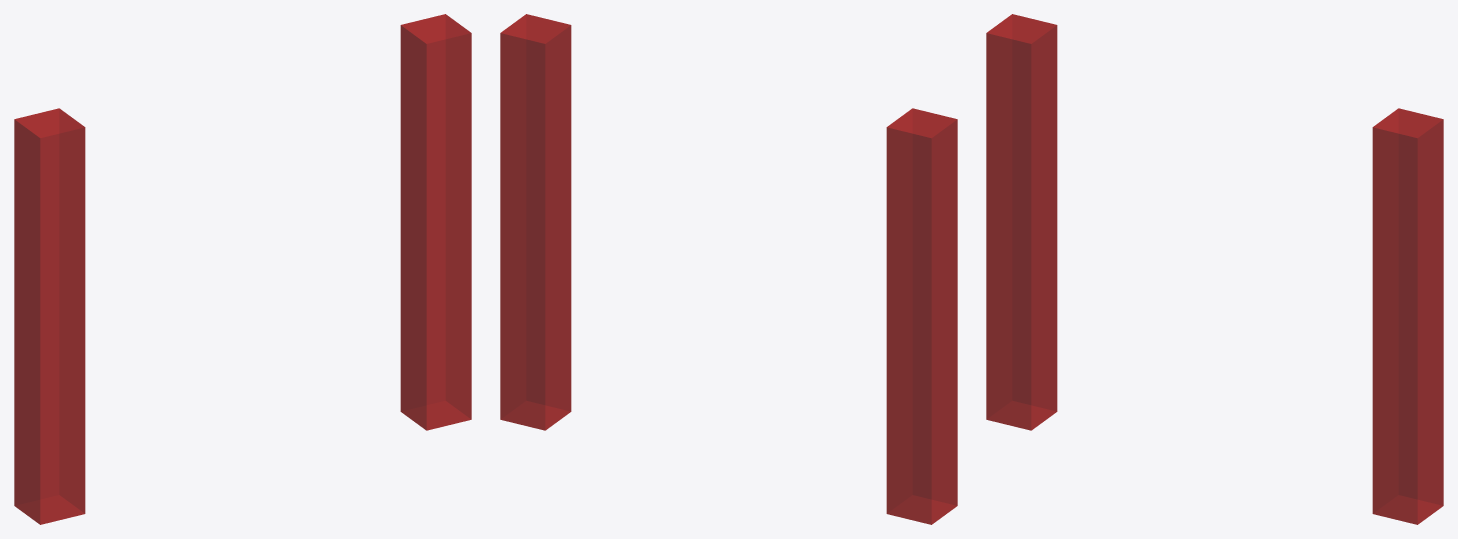
Rendered from SM_Prop_Gate_Small_01_Collision.fbx.
3 views of the same model, side by side, from view 1: azimuth 30°, elevation 25°; view 2: azimuth 150°, elevation 25°; view 3: azimuth 330°, elevation 25° (orthographic).
Visible parts, largest first — view 1: SM_Prop_Gate_Small_01_Collision; view 2: SM_Prop_Gate_Small_01_Collision; view 3: SM_Prop_Gate_Small_01_Collision.
Part boxes in pixels (<box>): SM_Prop_Gate_Small_01_Collision: <box>14,14,471,524</box>; SM_Prop_Gate_Small_01_Collision: <box>500,14,957,524</box>; SM_Prop_Gate_Small_01_Collision: <box>986,14,1443,524</box>.
Size of the model in its own units: 151 by 129 by 15.76.
